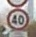limite 40: (6, 7, 29, 31)
